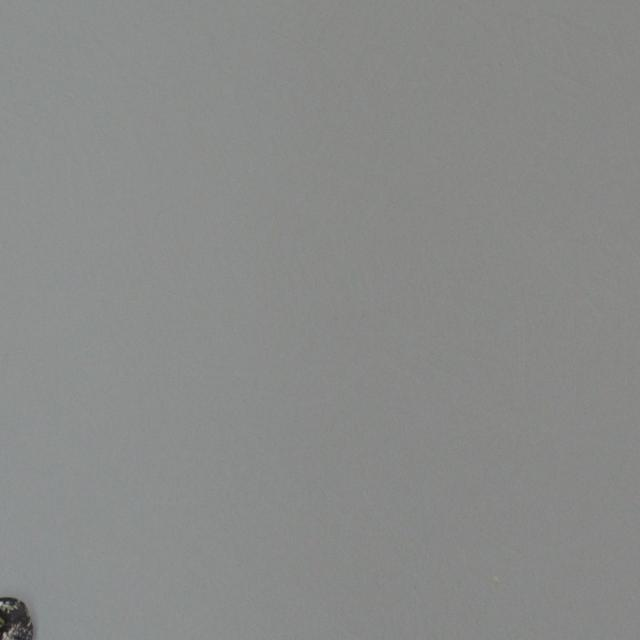cuerpos_extranos: (0, 583, 44, 640)
